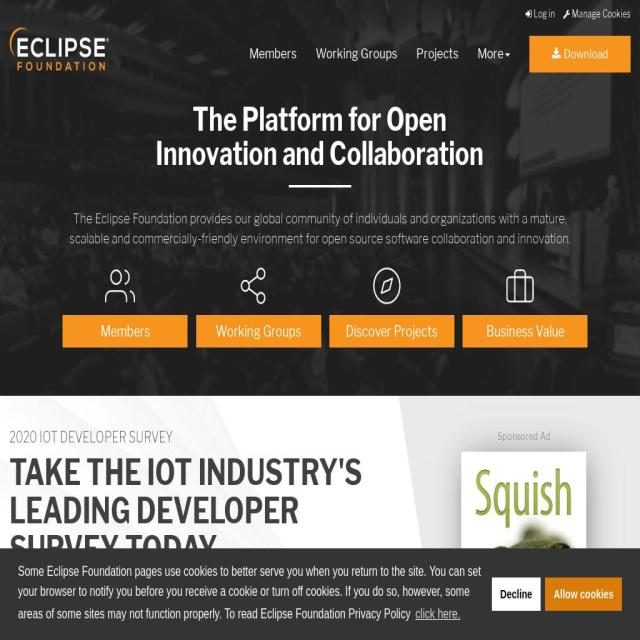button: (461, 452, 587, 618), (62, 265, 178, 307), (462, 265, 578, 307), (329, 265, 444, 307), (196, 265, 310, 307), (63, 315, 188, 347), (196, 315, 321, 347), (329, 315, 454, 347), (463, 315, 588, 347), (528, 36, 630, 72), (9, 611, 113, 640), (545, 577, 623, 611), (491, 577, 541, 611), (315, 45, 397, 63), (413, 601, 463, 627), (249, 45, 297, 63), (416, 45, 458, 63), (477, 45, 510, 63)
heading: (192, 102, 448, 348), (9, 451, 362, 570), (156, 134, 484, 173), (9, 429, 405, 445)
image: (10, 27, 110, 71), (104, 265, 136, 307), (238, 265, 270, 307), (370, 265, 402, 307), (504, 265, 536, 307)
link: (496, 627, 551, 640)
text: (18, 563, 482, 621), (62, 208, 578, 248), (9, 577, 405, 595), (461, 421, 587, 443), (561, 46, 608, 62), (570, 8, 631, 20), (477, 45, 504, 62), (532, 8, 555, 20)
